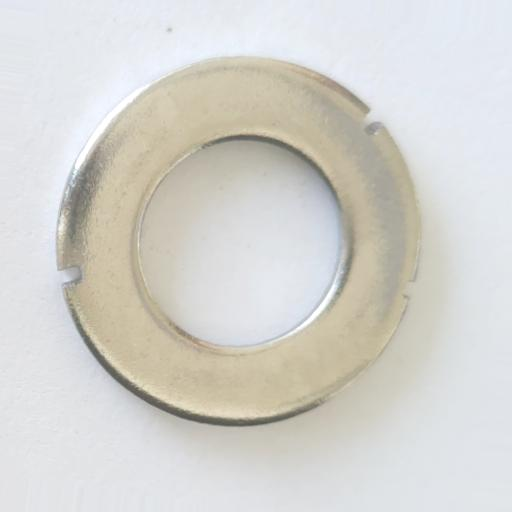burr: (56, 265, 84, 286), (361, 109, 381, 138), (364, 120, 384, 137), (401, 279, 416, 300)
